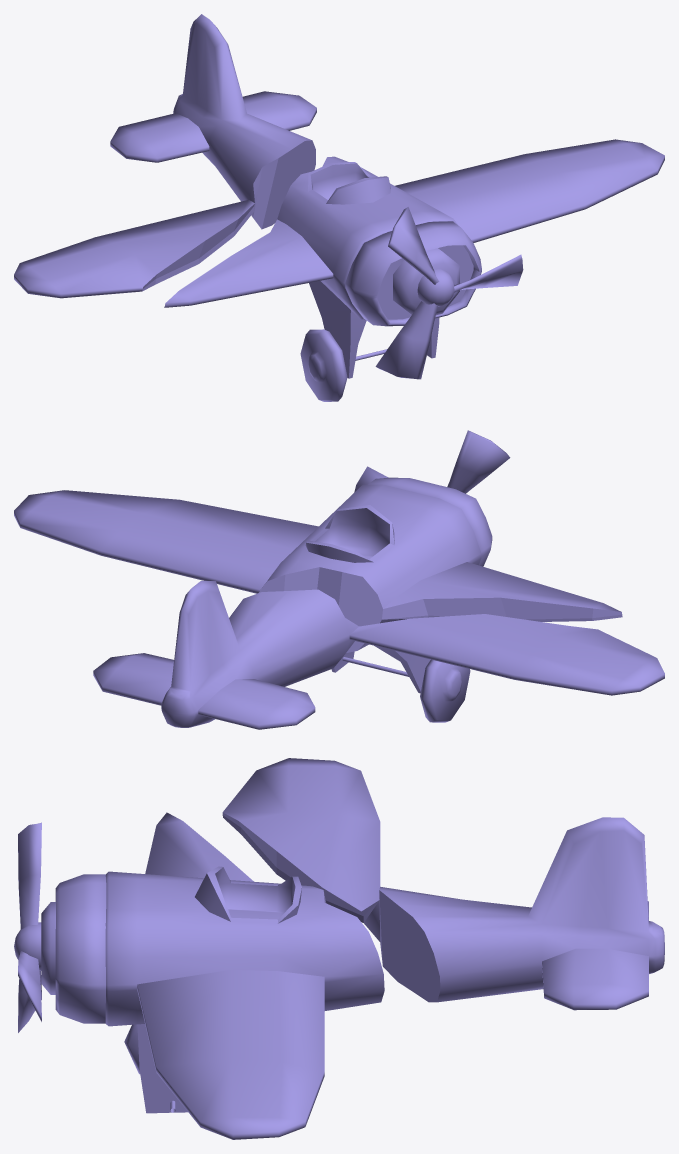
File: Airplane_Broken.FBX
3 renders of one model, top to bottom at view 1: azimuth 30°, elevation 25°; view 2: azimuth 150°, elevation 25°; view 3: azimuth 270°, elevation 25°, orthographic. The views are drawn at different scales.
Visible parts, largest first — view 1: BrokenAirplaneFront, BrokenAirplainTale; view 2: BrokenAirplaneFront, BrokenAirplainTale; view 3: BrokenAirplaneFront, BrokenAirplainTale.
Part boxes in pixels (bbox=[...]): BrokenAirplaneFront: bbox=[164, 139, 664, 401]; BrokenAirplainTale: bbox=[14, 14, 316, 298]; BrokenAirplaneFront: bbox=[14, 430, 622, 722]; BrokenAirplainTale: bbox=[93, 581, 664, 729]; BrokenAirplaneFront: bbox=[14, 812, 384, 1139]; BrokenAirplainTale: bbox=[222, 758, 664, 1010].
Size of the model in its own units: 47.13 by 17.81 by 34.47.
